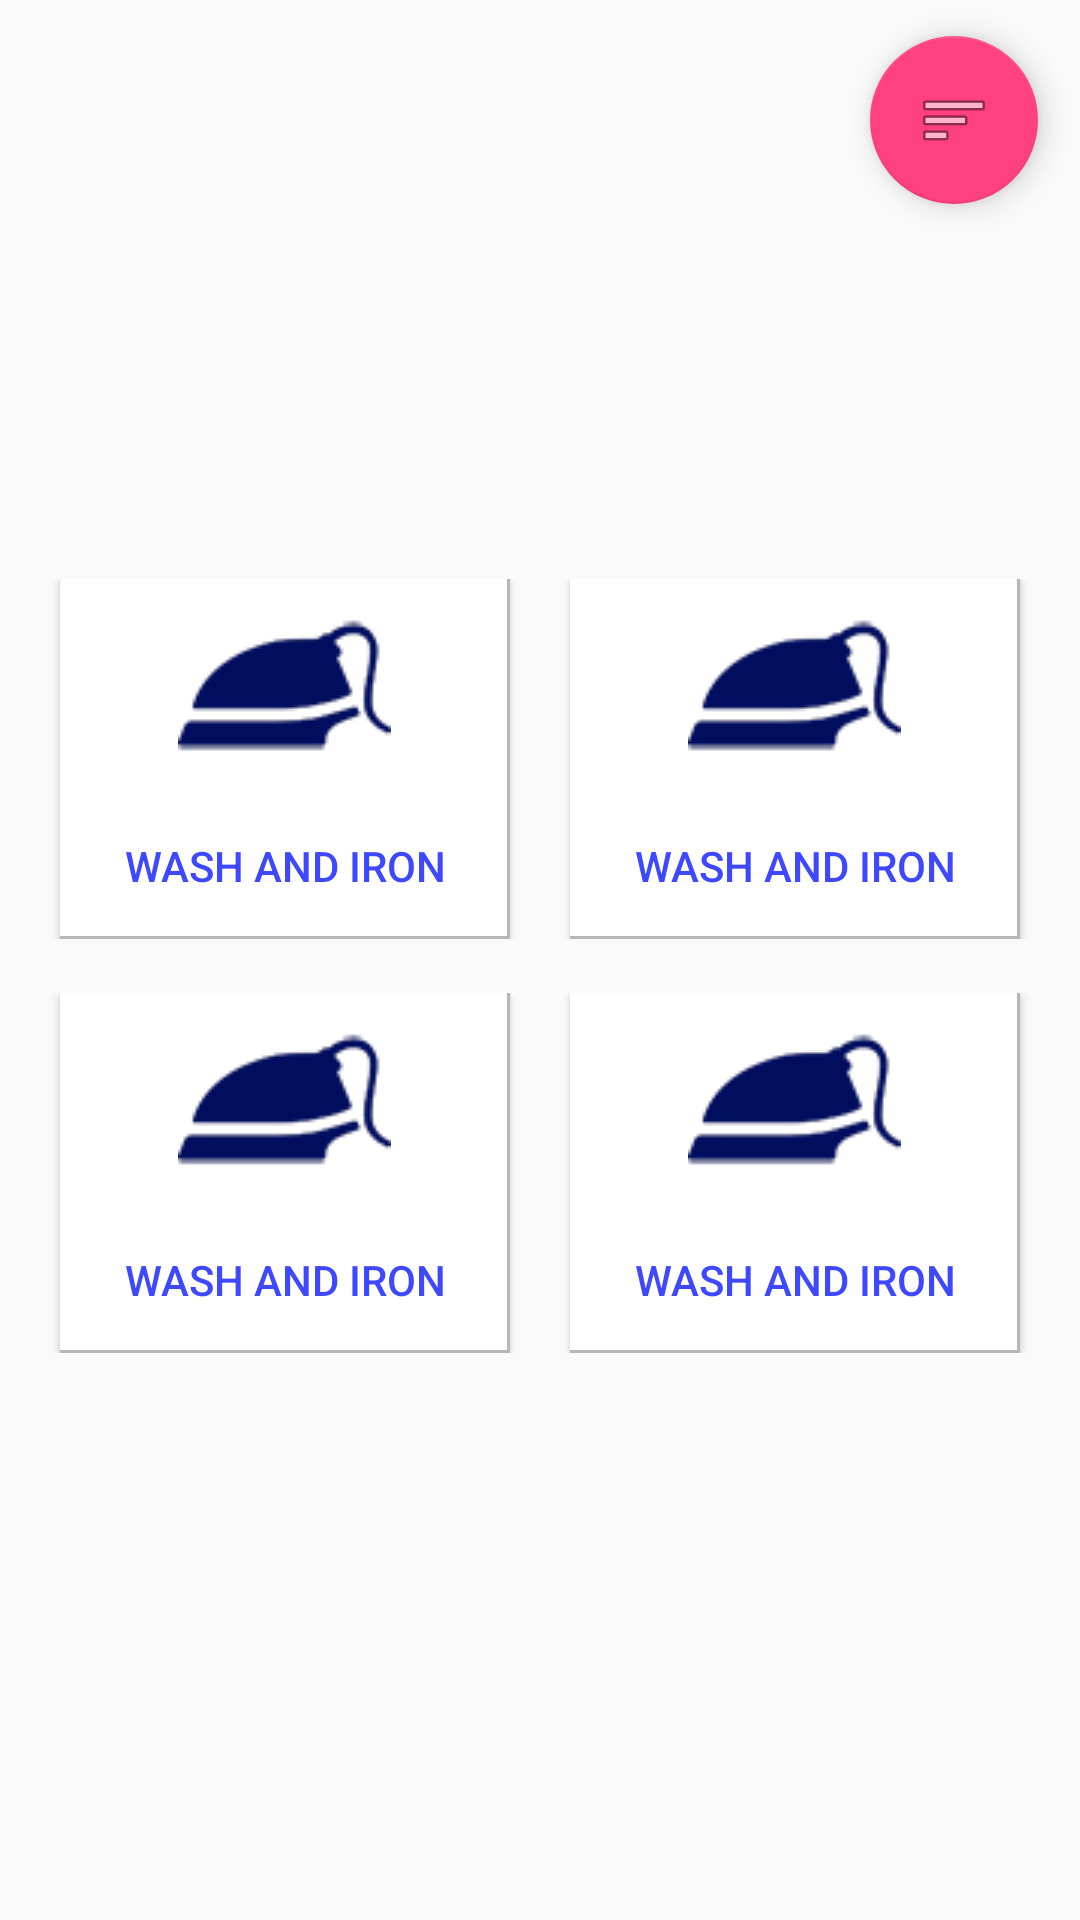

Screen size 1080w x 1920h. Icon name, then its box in pixels as bbox=(x1, y1, x2, y2):
sort by size: bbox=(870, 36, 1038, 204)
